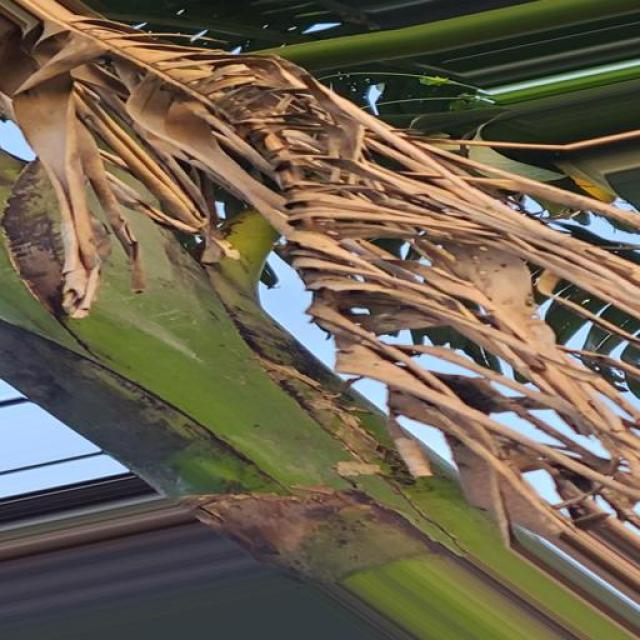Bract_mosaic_virus: (1, 0, 640, 610)
